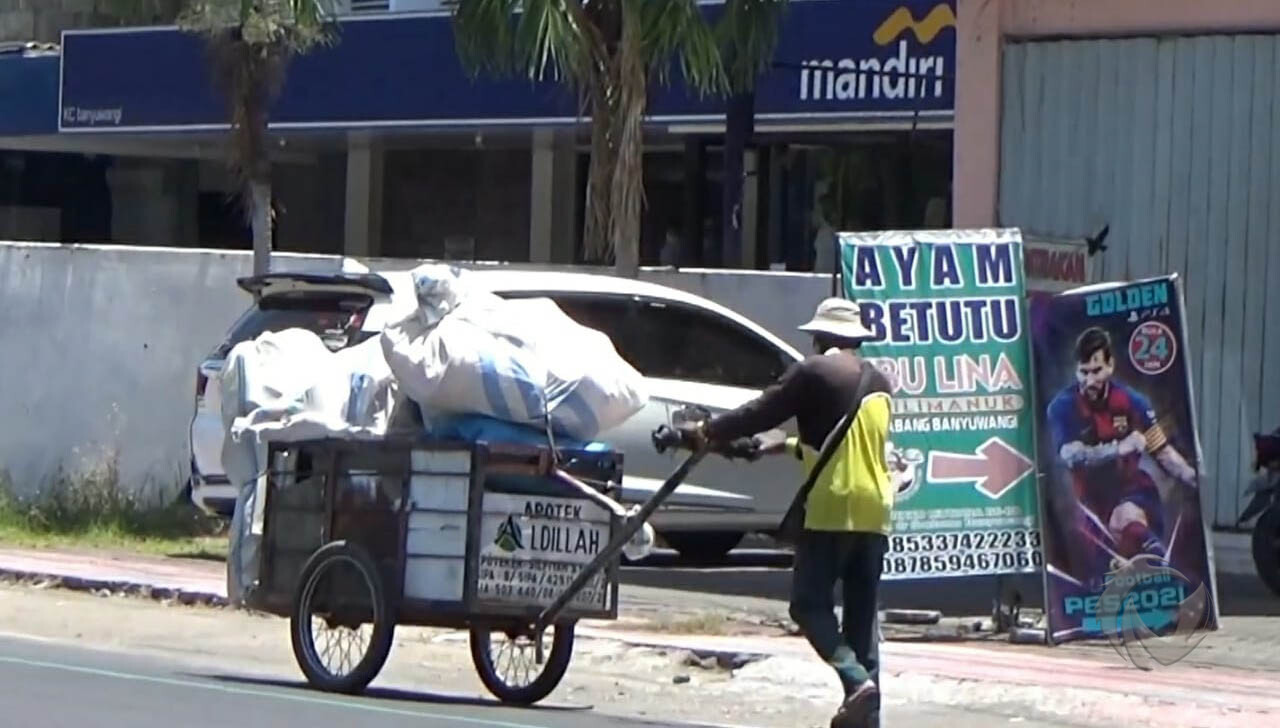pemulung: (204, 262, 899, 728)
